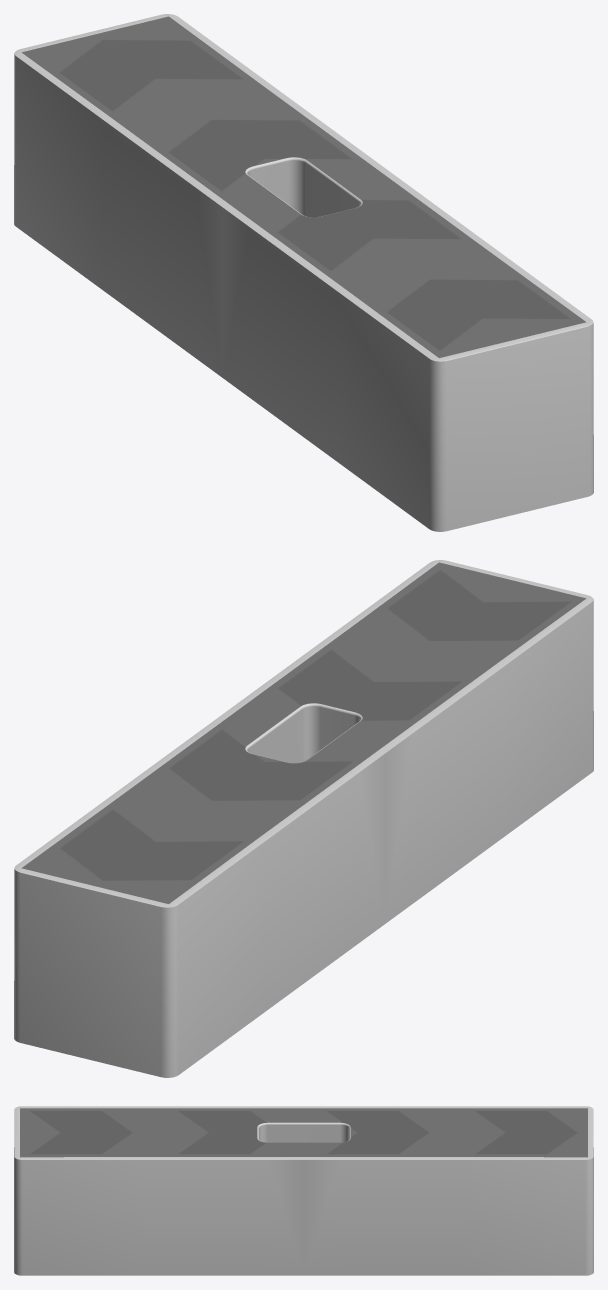
Rendered from Platform_Middle2.fbx.
3 renders of one model, top to bottom at view 1: azimuth 30°, elevation 25°; view 2: azimuth 150°, elevation 25°; view 3: azimuth 270°, elevation 25°, orthographic. The views are drawn at different scales.
Parts seen in each view (by area): view 1: Platform_Middle2; view 2: Platform_Middle2; view 3: Platform_Middle2.
Part boxes in pixels (x1,y1,x2,y2): Platform_Middle2: [14, 14, 593, 531]; Platform_Middle2: [14, 560, 593, 1077]; Platform_Middle2: [14, 1106, 593, 1275].
Bounding box in the file's own units: 671 × 671 × 3040.
Materials: 2 (1 with a texture image).
